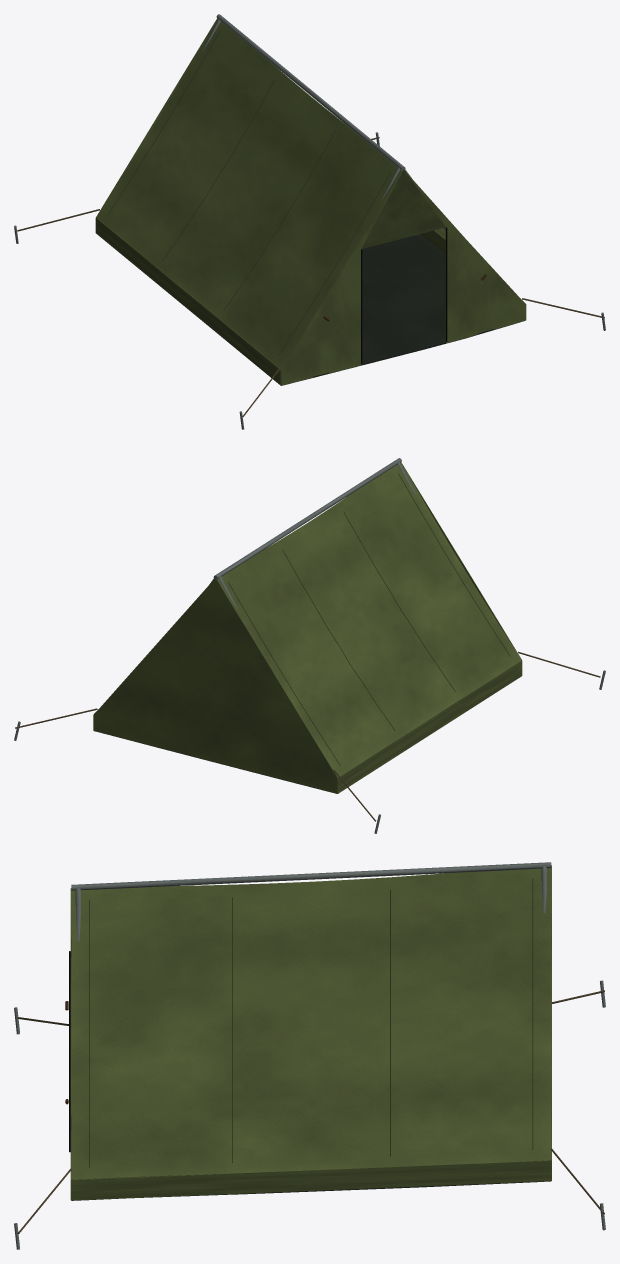
Rendered from level_camp_tent_fitted_pitch_05_siteart.glb.
3 views of the same model, one above another, from view 1: azimuth 30°, elevation 25°; view 2: azimuth 150°, elevation 25°; view 3: azimuth 270°, elevation 25° (orthographic). The views are drawn at different scales.
Parts seen in each view (by area): view 1: level_camp_tent_fitted_pitch_05_siteart; view 2: level_camp_tent_fitted_pitch_05_siteart; view 3: level_camp_tent_fitted_pitch_05_siteart.
Boxes of the visible parts, box(x1,y1,x2,y2) form: level_camp_tent_fitted_pitch_05_siteart: box(14, 14, 605, 429); level_camp_tent_fitted_pitch_05_siteart: box(14, 458, 605, 833); level_camp_tent_fitted_pitch_05_siteart: box(14, 862, 605, 1249).
Size of the model in its own units: 3.9 by 2.24 by 4.19.
8 materials, 8 textured.
